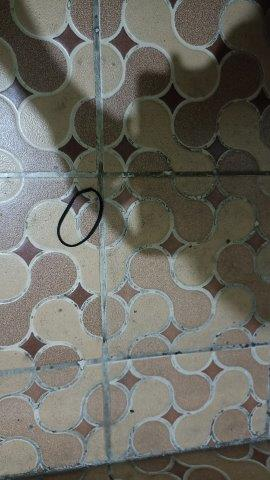karet: (57, 188, 103, 247)
